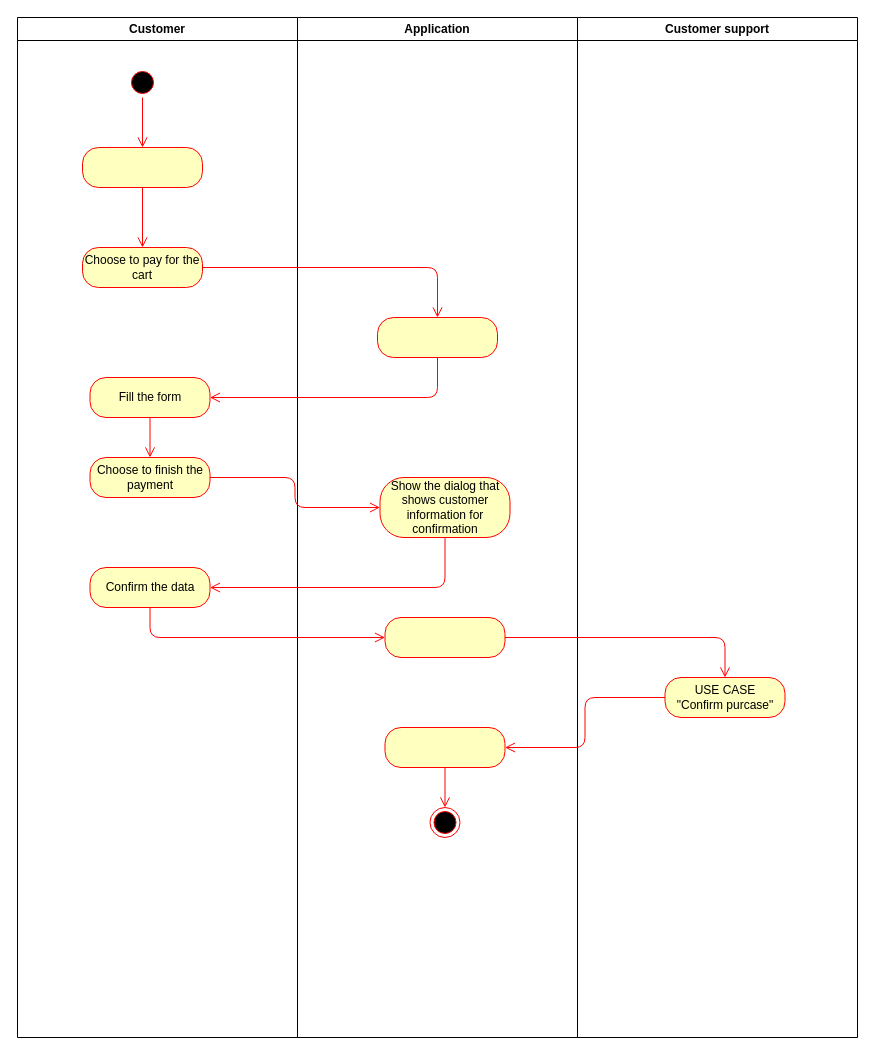
The diagram is 875 pixels wide and 1055 high, and some of its shapes have lost their labels. Here are the shapes that lost their labels. From the top down, the centre of each, then its label:
point 142,167: Add game to the cart
point 437,337: Ask for credit card information
point 444,637: Send purchase order
point 444,747: Show order status
